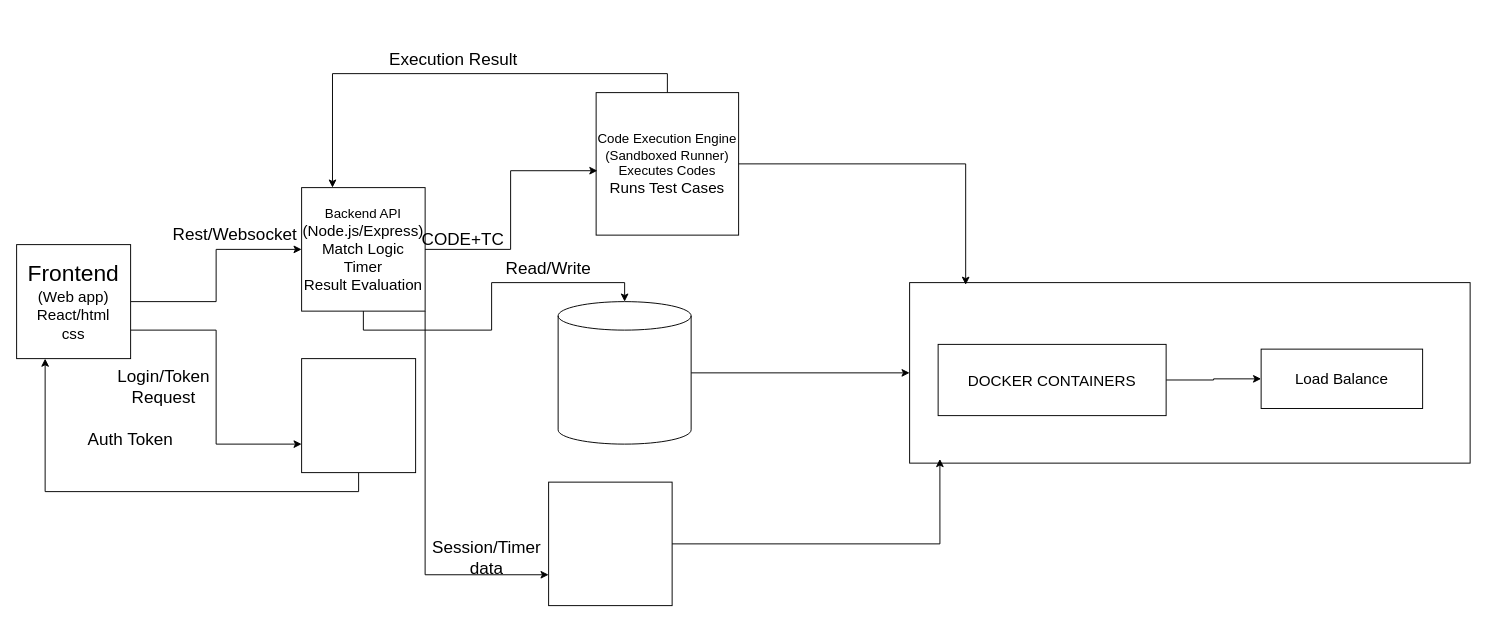
Image size: 1487x622. Some labels were removed from this diagram. The shapes that lost their labels are listed below. From the top down, each one's centre as x and y in pixels, then its label:
At point 624,372: "Databases Users Duels Submissions Results".
At point 358,415: "Auth Service (JWT/OAuth )".
At point 610,543: "Cache (Redis) Active Duels Timers".
